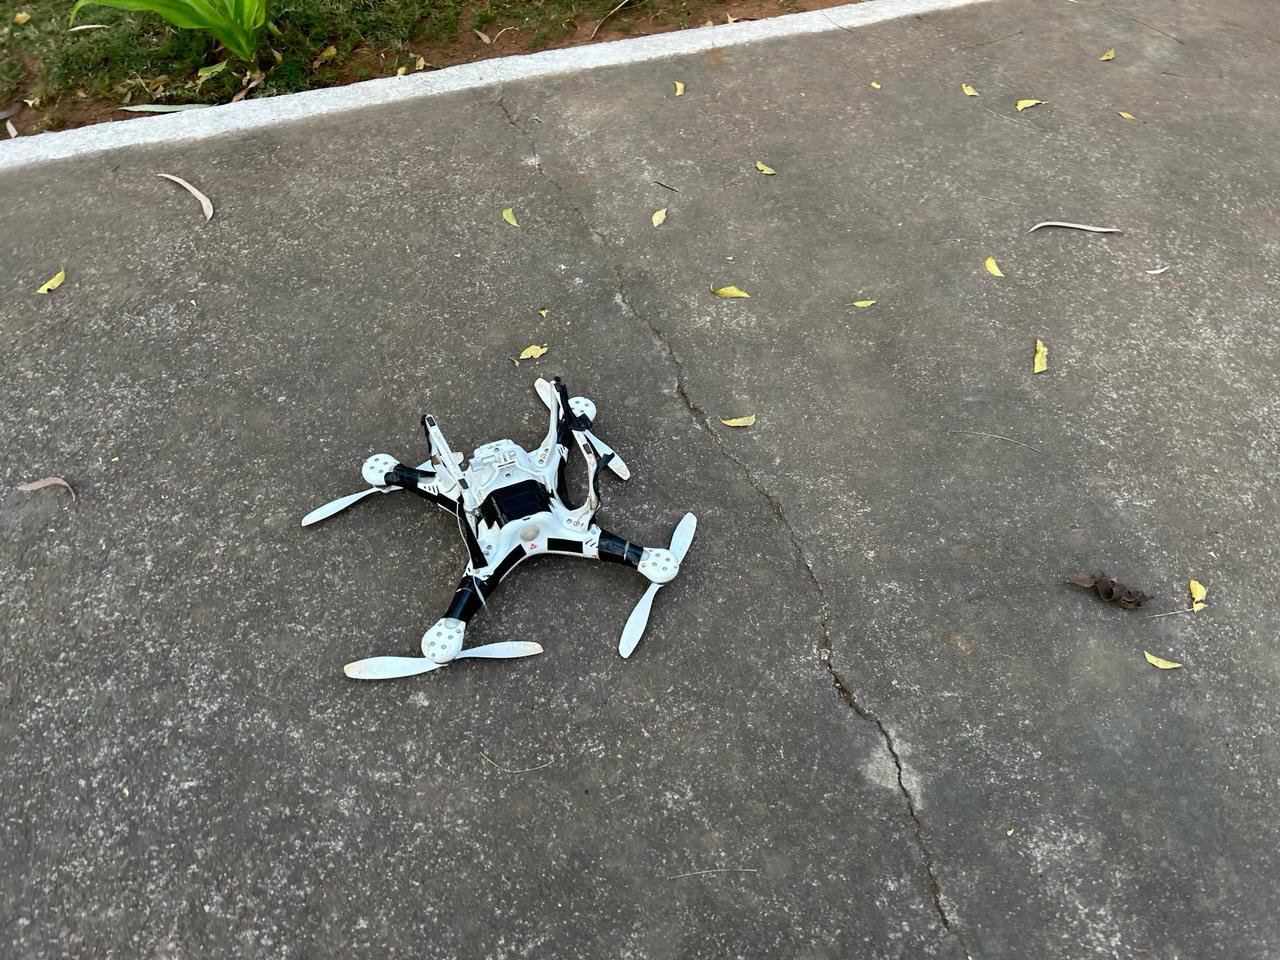drone: (217, 272, 843, 740)
